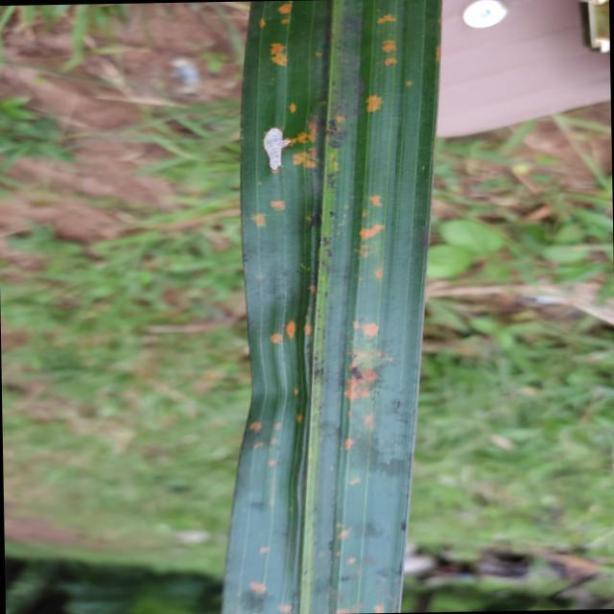Kalium: (224, 0, 443, 614)
